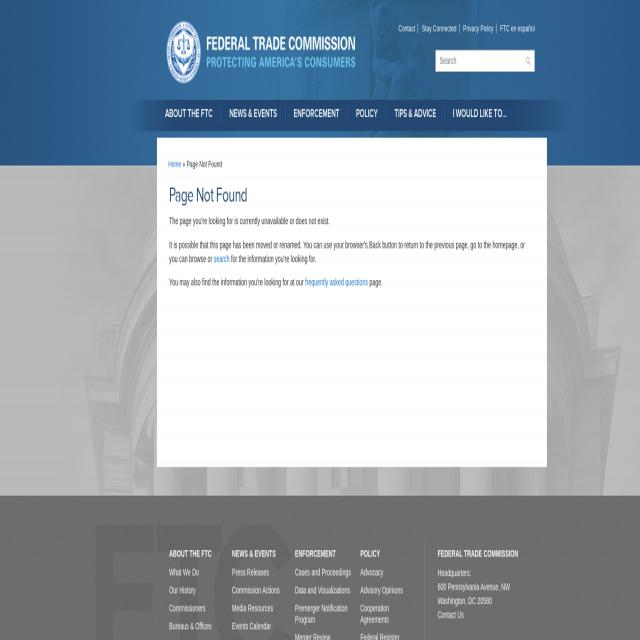button: (165, 11, 358, 93), (446, 103, 514, 130), (221, 102, 285, 128), (162, 101, 220, 128), (286, 102, 346, 128), (387, 103, 444, 129), (348, 102, 386, 129), (525, 54, 532, 68)
field: (435, 50, 535, 72)
